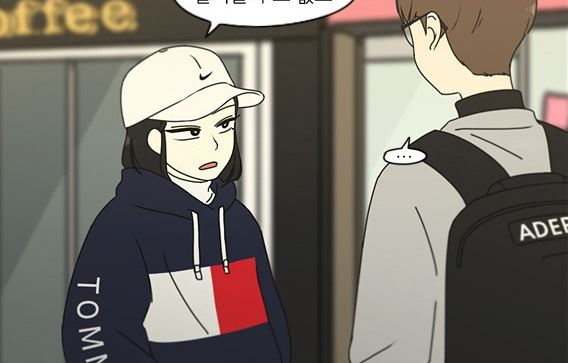hat: (121, 46, 266, 115)
